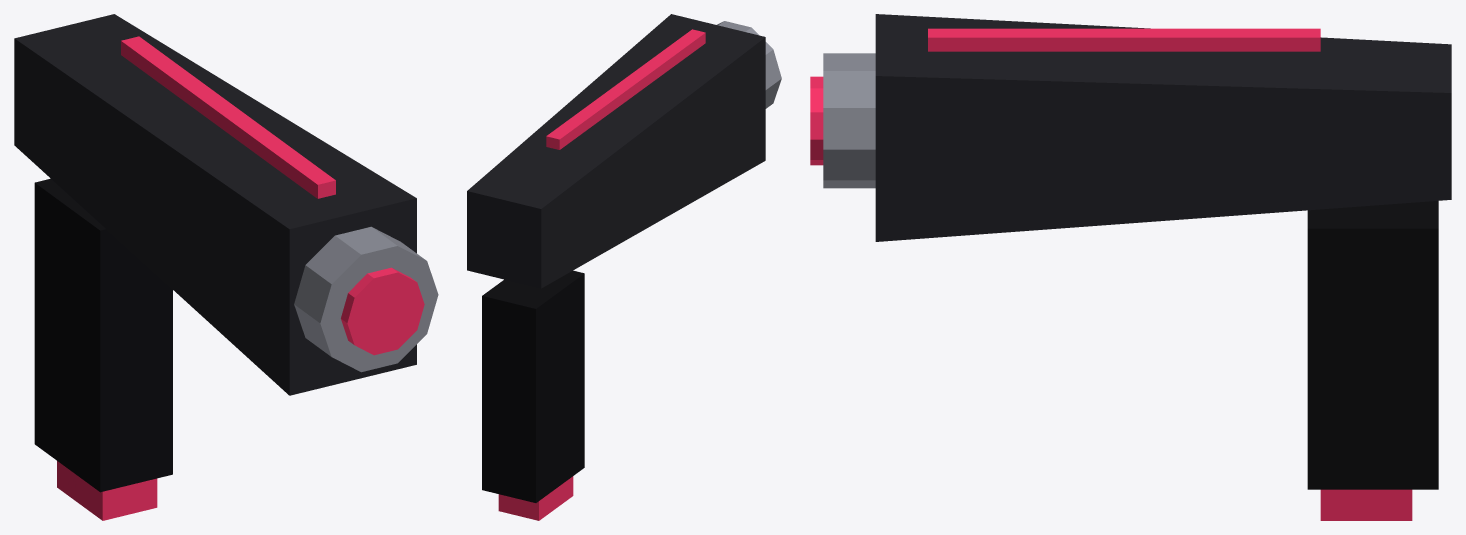
Rendered from weapon_F2_PlasmaPistol.obj.
3 views of the same model, side by side, from view 1: azimuth 30°, elevation 25°; view 2: azimuth 150°, elevation 25°; view 3: azimuth 270°, elevation 25° (orthographic). The views are drawn at different scales.
Parts seen in each view (by area): view 1: F2_PlasmaPistol_WBody, F2_PlasmaPistol_WDark, F2_PlasmaPistol_Energy, F2_PlasmaPistol_WPanel, F2_PlasmaPistol_Cell; view 2: F2_PlasmaPistol_WBody, F2_PlasmaPistol_WDark, F2_PlasmaPistol_Energy, F2_PlasmaPistol_Cell, F2_PlasmaPistol_WPanel; view 3: F2_PlasmaPistol_WBody, F2_PlasmaPistol_WDark, F2_PlasmaPistol_Energy, F2_PlasmaPistol_WPanel, F2_PlasmaPistol_Cell.
Part boxes in pixels (x1,y1,x2,y2): F2_PlasmaPistol_WBody: (14,14,416,395); F2_PlasmaPistol_WDark: (34,178,172,492); F2_PlasmaPistol_Energy: (121,36,424,355); F2_PlasmaPistol_WPanel: (294,226,438,372); F2_PlasmaPistol_Cell: (57,461,157,520); F2_PlasmaPistol_WBody: (467,14,765,288); F2_PlasmaPistol_WDark: (482,270,584,502); F2_PlasmaPistol_Energy: (546,29,705,149); F2_PlasmaPistol_Cell: (498,476,573,520); F2_PlasmaPistol_WPanel: (717,21,781,108); F2_PlasmaPistol_WBody: (875,14,1451,241); F2_PlasmaPistol_WDark: (1307,201,1438,489); F2_PlasmaPistol_Energy: (810,28,1320,165); F2_PlasmaPistol_WPanel: (823,53,875,188); F2_PlasmaPistol_Cell: (1320,489,1412,520).
Bounding box in the file's own units: 0.056 × 0.2 × 0.245.
